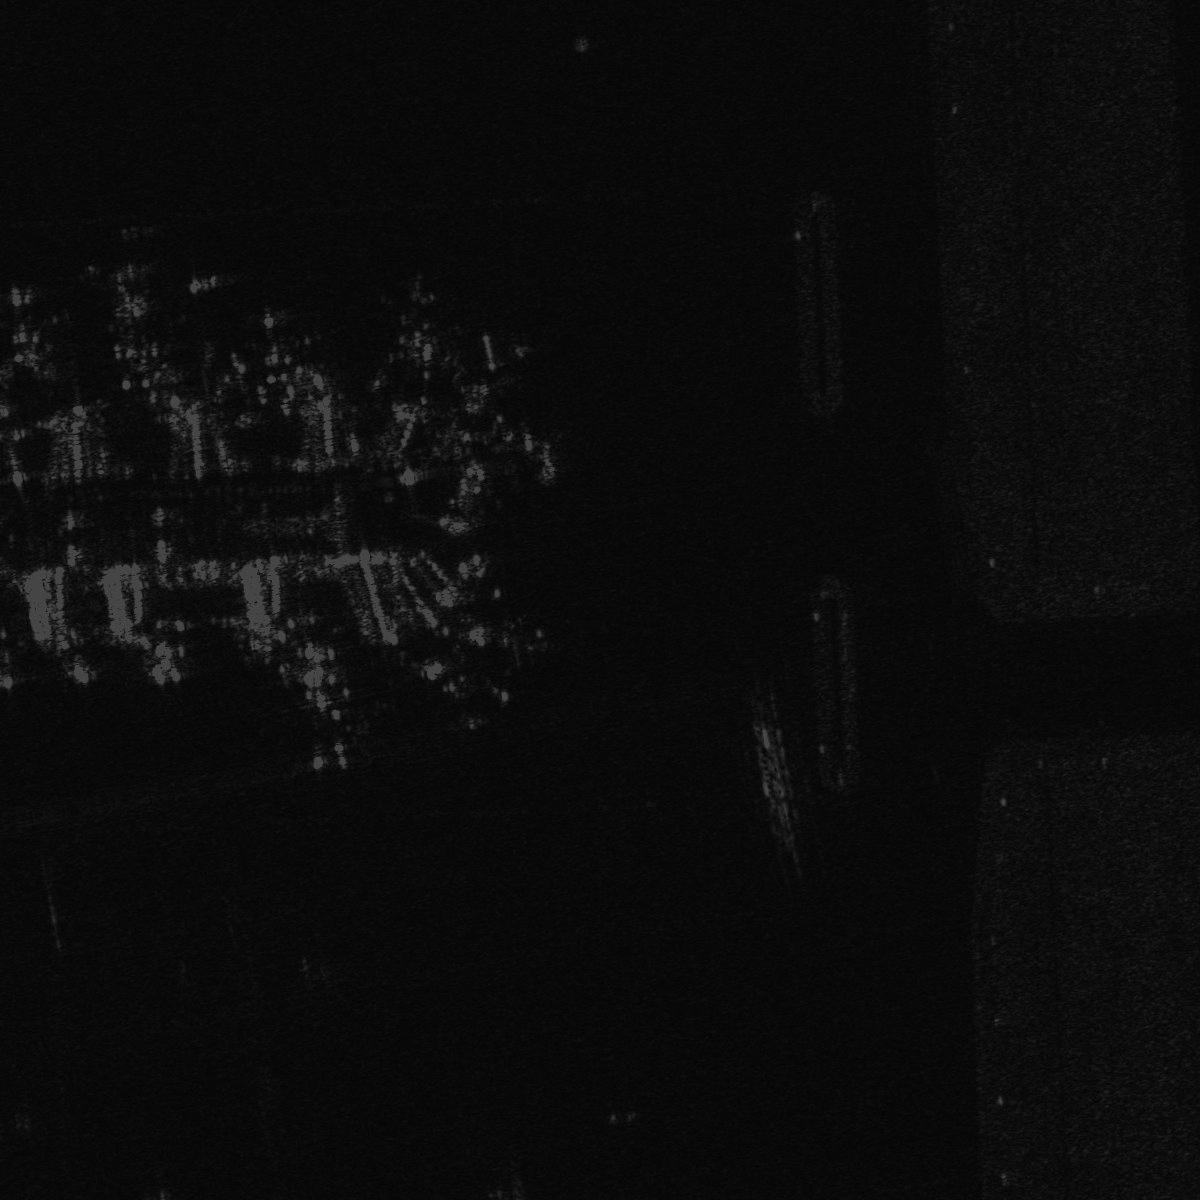A320/321: (279, 666, 373, 776), (104, 260, 180, 375), (381, 269, 451, 376), (459, 611, 552, 673), (245, 304, 308, 390)
Boeing737: (412, 651, 526, 714)
other: (1, 282, 58, 384)
